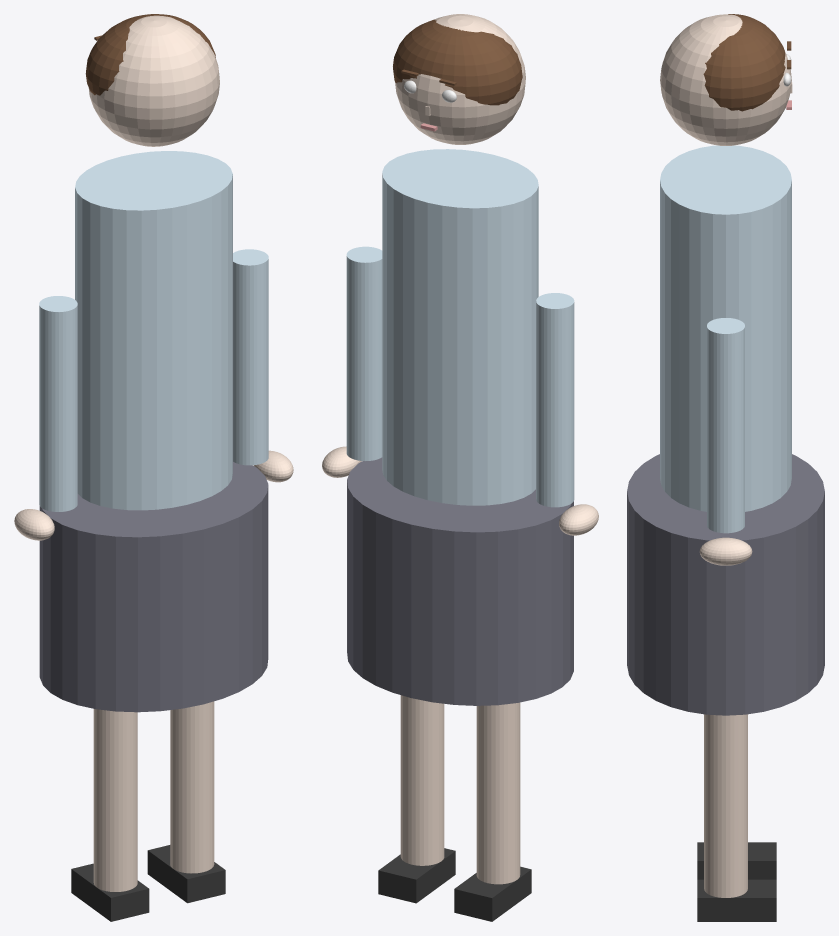
File: professional_teacher.glb
3 views of the same model, side by side, from view 1: azimuth 30°, elevation 25°; view 2: azimuth 150°, elevation 25°; view 3: azimuth 270°, elevation 25° (orthographic).
Parts seen in each view (by area): view 1: ProfessionalTeacher; view 2: ProfessionalTeacher; view 3: ProfessionalTeacher.
Part boxes in pixels (x1=…): ProfessionalTeacher: x1=14, y1=14, x2=293, y2=921; ProfessionalTeacher: x1=322, y1=14, x2=598, y2=921; ProfessionalTeacher: x1=627, y1=14, x2=824, y2=921.
Bounding box in the file's own units: 0.564 × 1.75 × 0.36.
